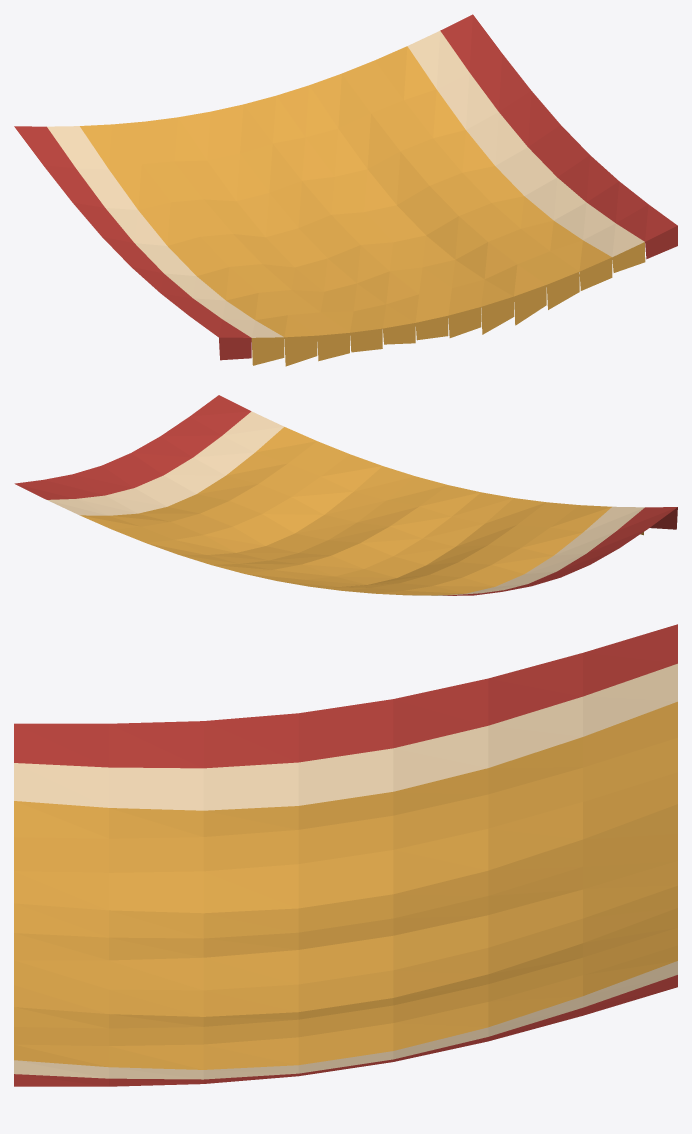
The model's file is Fabric.gltf.
3 renders of one model, top to bottom at view 1: azimuth 30°, elevation 25°; view 2: azimuth 150°, elevation 25°; view 3: azimuth 270°, elevation 25°, orthographic. The views are drawn at different scales.
Parts seen in each view (by area): view 1: Fabric; view 2: Fabric; view 3: Fabric.
Part boxes in pixels (x1,y1,x2,y2): Fabric: (14,14,677,366); Fabric: (14,395,677,595); Fabric: (14,624,677,1086).
Bounding box in the file's own units: 5.64 × 1.44 × 4.36.
